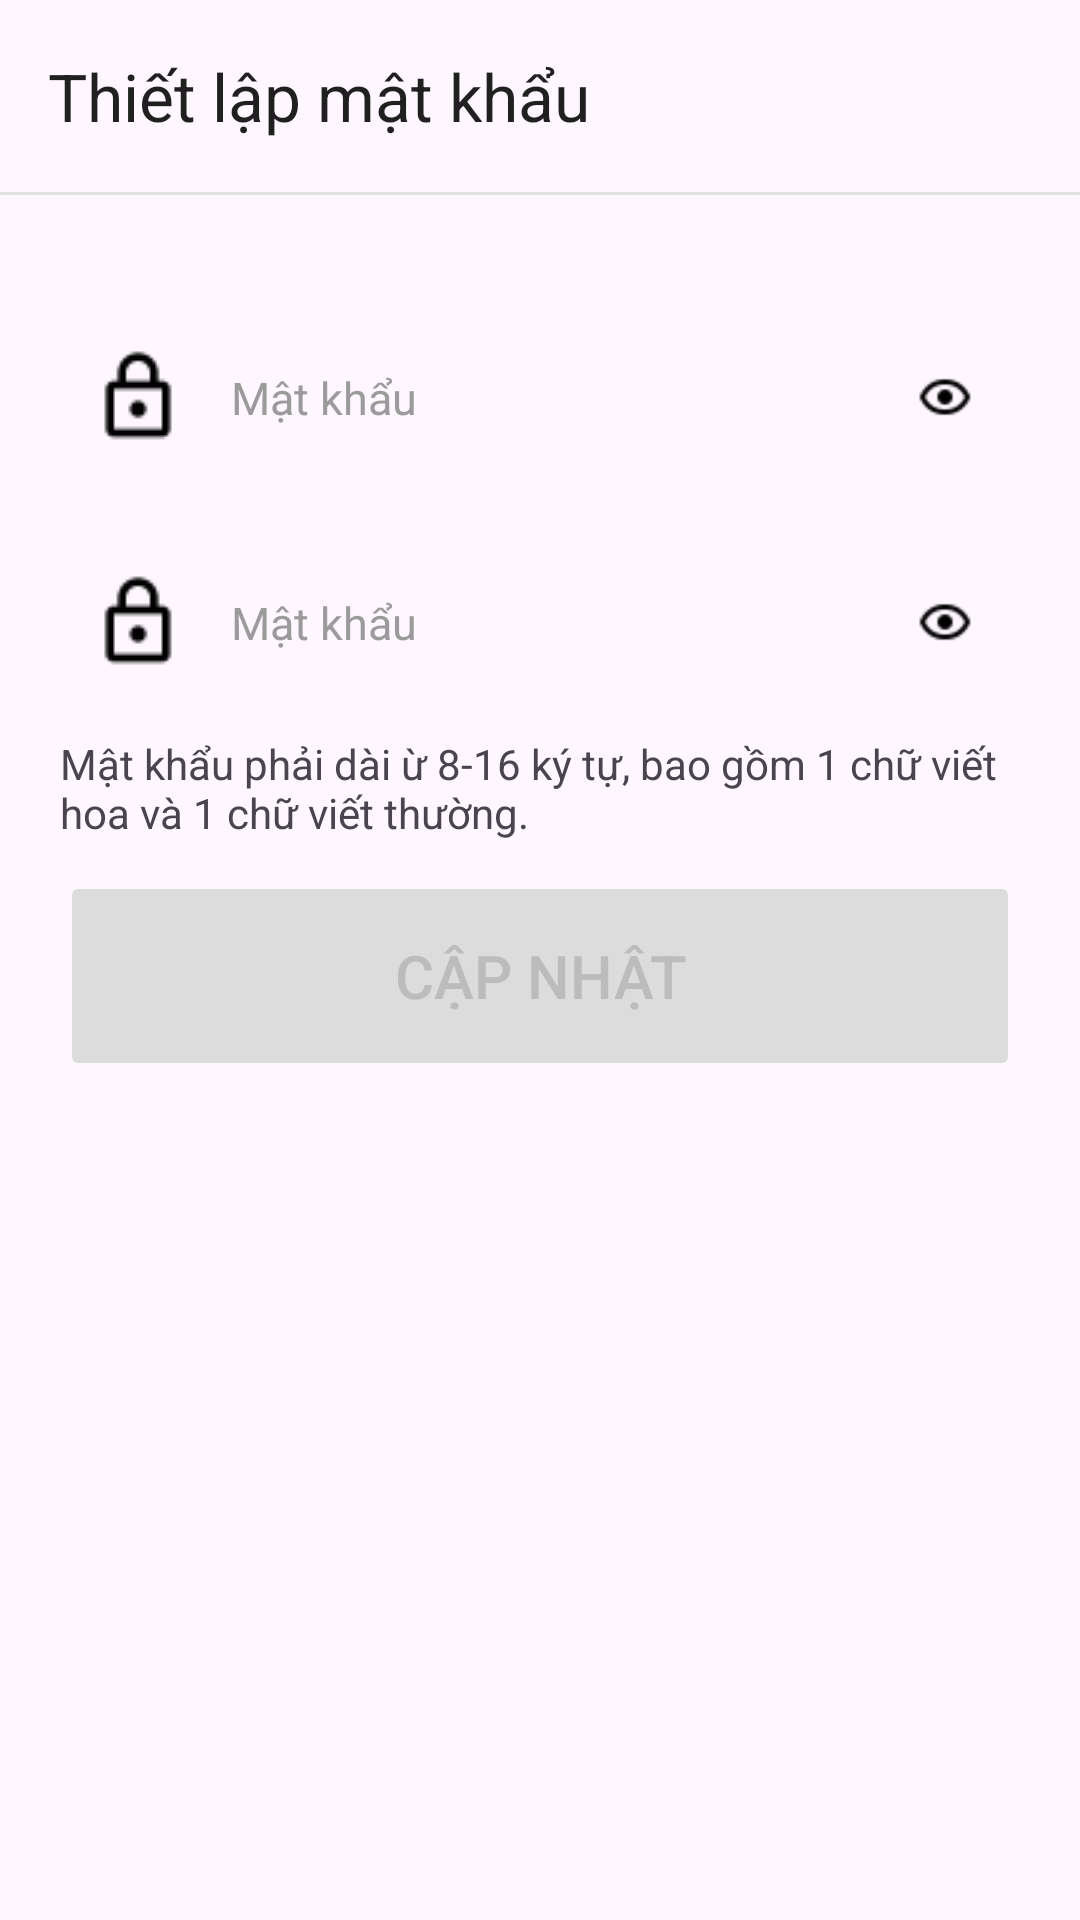

Icon click points for this 1080 × 1920 phone screenshot, format point (x, y):
show pwd: point (945, 397), point (945, 622)
